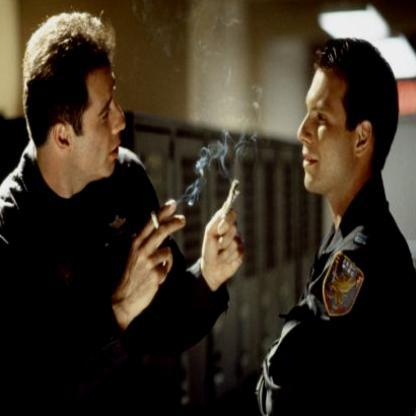cigarette: (150, 209, 160, 232)
person: (0, 14, 183, 415), (281, 43, 415, 416)
smoke: (187, 143, 208, 210)
